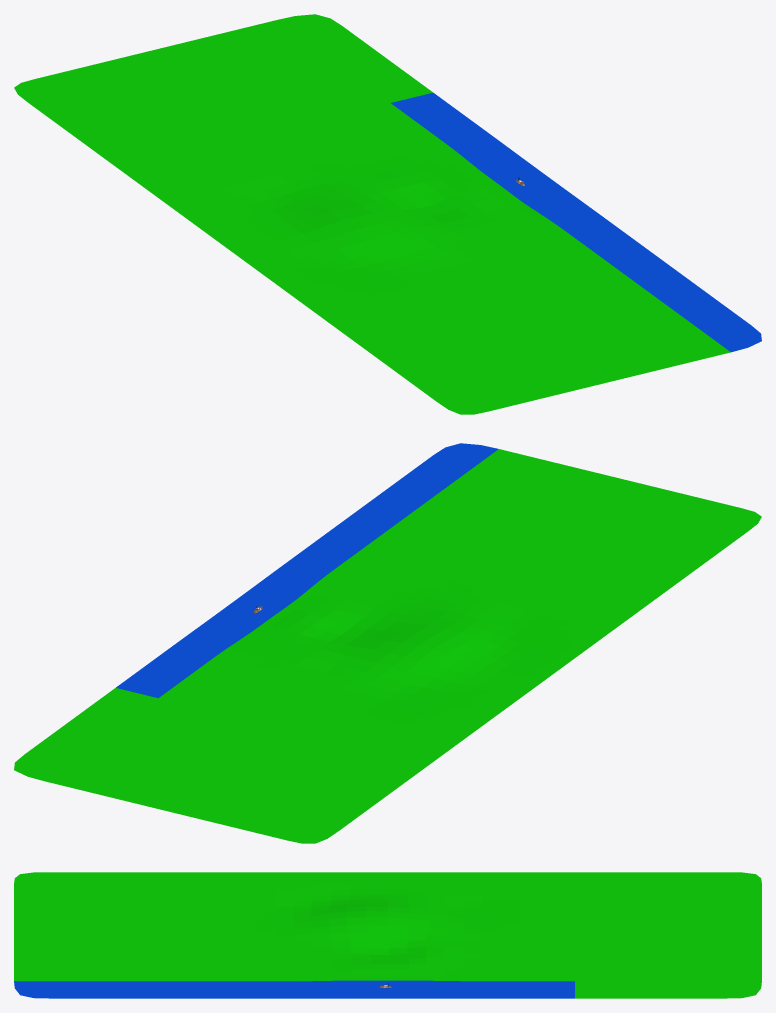
File: steamship-scan.glb
3 views of the same model, one above another, from view 1: azimuth 30°, elevation 25°; view 2: azimuth 150°, elevation 25°; view 3: azimuth 270°, elevation 25° (orthographic). The views are drawn at different scales.
Visible parts, largest first — view 1: Plane_14; view 2: Plane_14; view 3: Plane_14.
Boxes of the visible parts, box(x1,y1,x2,y2) form: Plane_14: box(14, 14, 761, 414); Plane_14: box(14, 443, 761, 843); Plane_14: box(14, 872, 761, 998).
Size of the model in its own units: 66.06 by 1.57 by 165.
